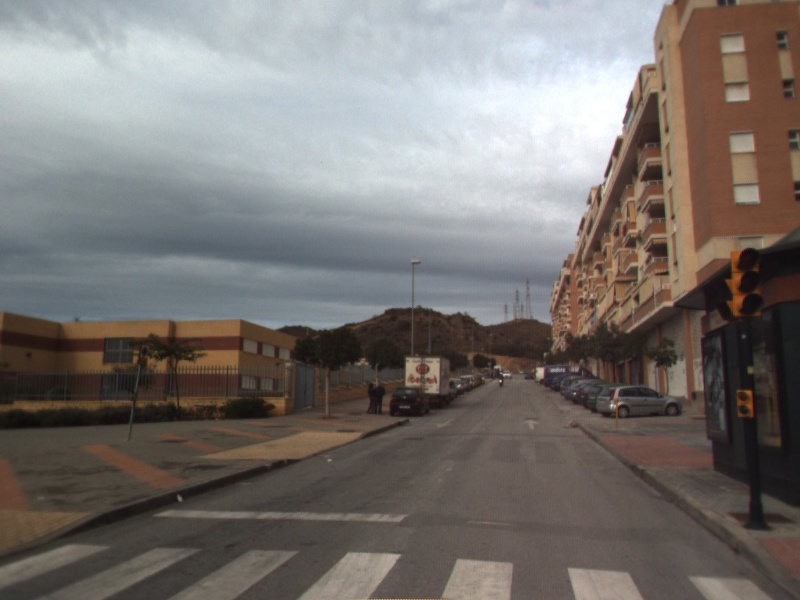STRAIGHT: (521, 417, 541, 431)
